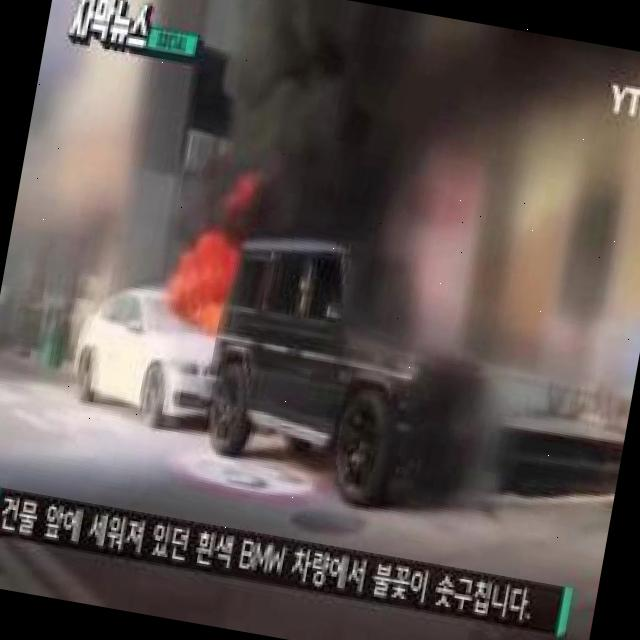fire: (176, 264, 226, 334)
